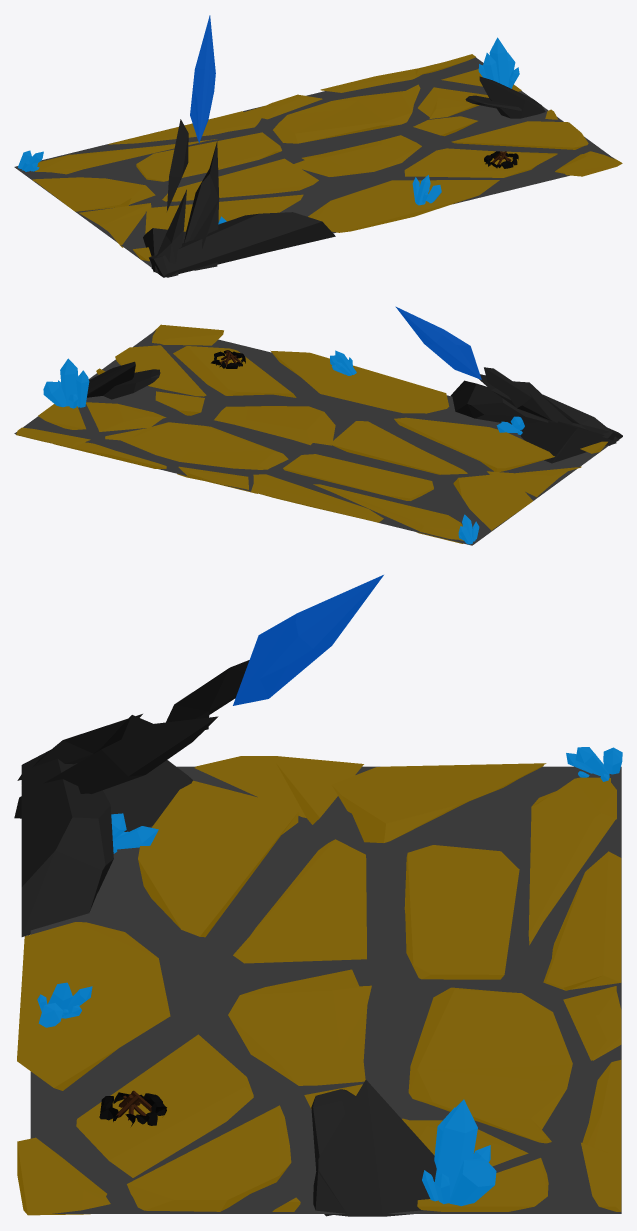
File: terrain-lightning.glb
3 views of the same model, one above another, from view 1: azimuth 30°, elevation 25°; view 2: azimuth 150°, elevation 25°; view 3: azimuth 270°, elevation 25° (orthographic). The views are drawn at different scales.
Visible parts, largest first — view 1: lightning-terrain; view 2: lightning-terrain; view 3: lightning-terrain.
Part boxes in pixels (x1,y1,x2,y2): lightning-terrain: (14, 15, 622, 277); lightning-terrain: (14, 306, 622, 545); lightning-terrain: (14, 575, 622, 1216).
Bounding box in the file's own units: 14.07 × 4.75 × 7.92.
Materials: 3 (3 with a texture image).
